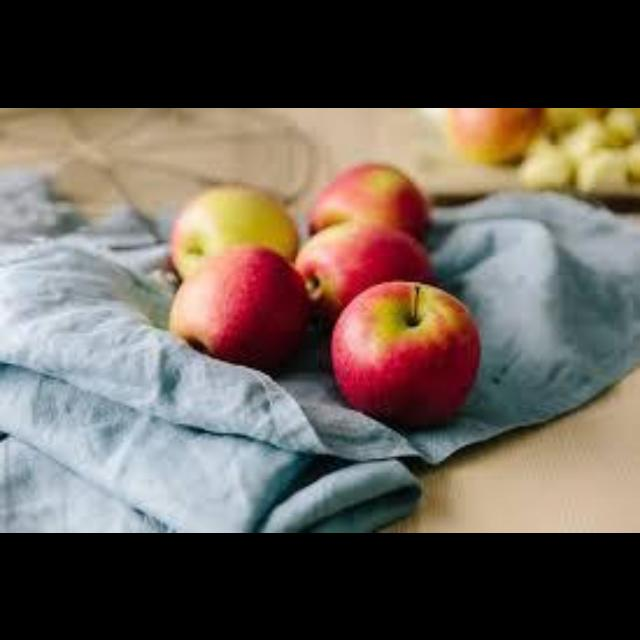apple: (330, 284, 479, 426), (170, 244, 310, 370), (293, 221, 433, 319), (170, 184, 298, 277), (307, 163, 428, 237)
